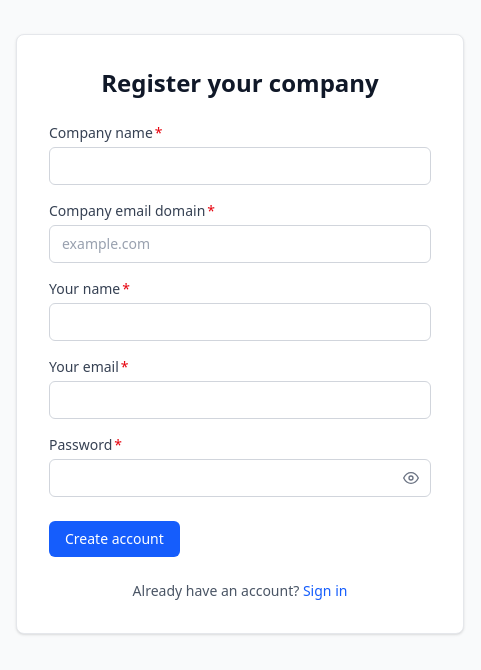
Scenario: RegisterPage › displays domain already registered error on 409
Type "Acme" into the field labelled "Company name*".
click(240, 166); type("Acme")  # box [49, 147, 431, 185]
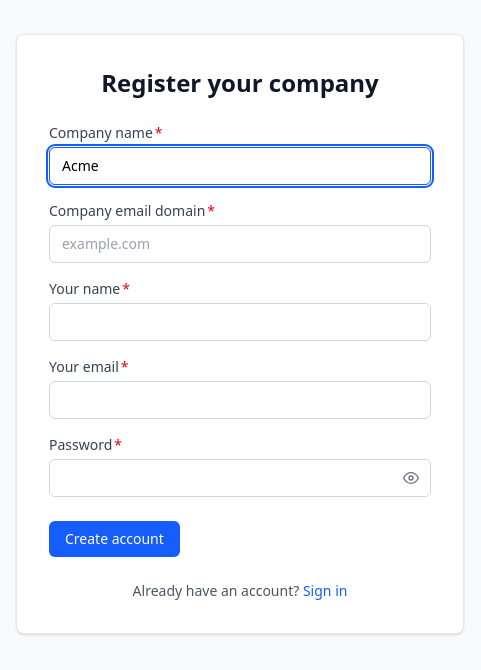
Click the button "Create account".
click(114, 539)  # box [49, 521, 180, 557]
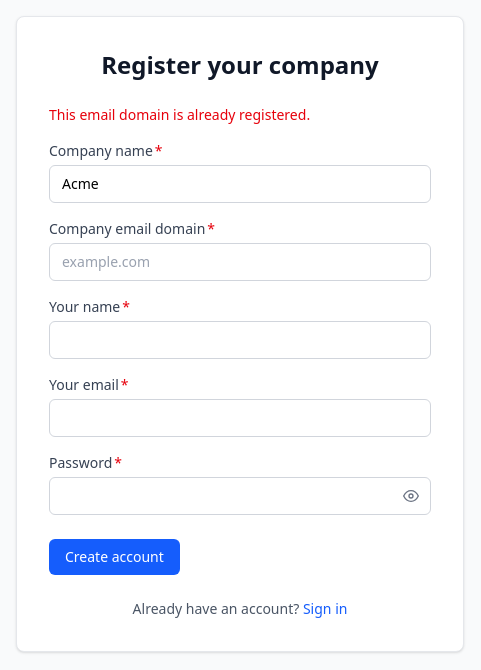
Check: the text "This email domain is already registered." is shown, box [49, 105, 310, 124]
